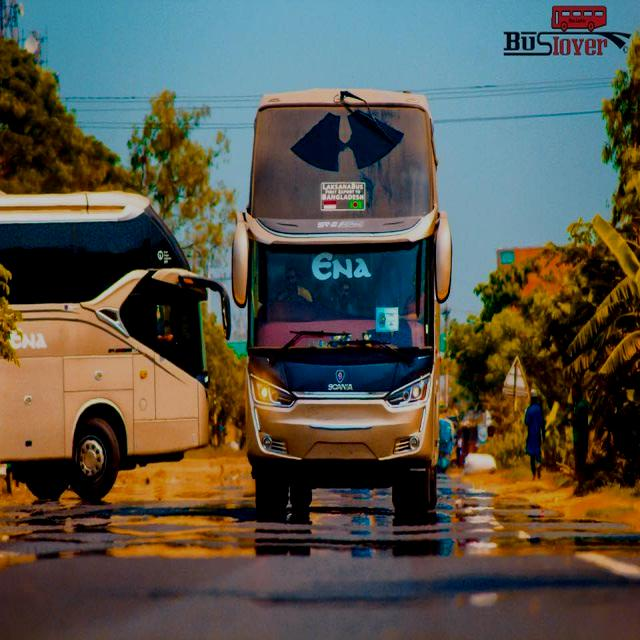bus: (231, 89, 455, 513), (2, 190, 234, 506)
